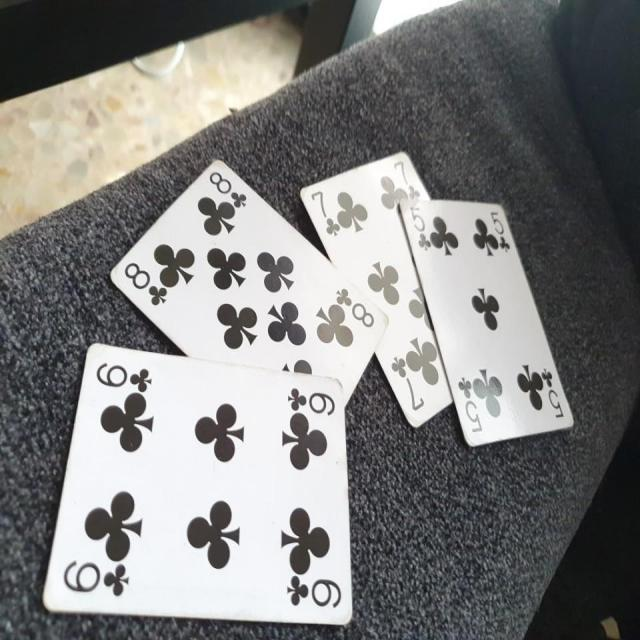5 Trefoils: (399, 191, 574, 448)
6 Trefoils: (41, 340, 354, 628)
7 Trefoils: (298, 150, 455, 433)
8 Trefoils: (107, 156, 390, 398)
